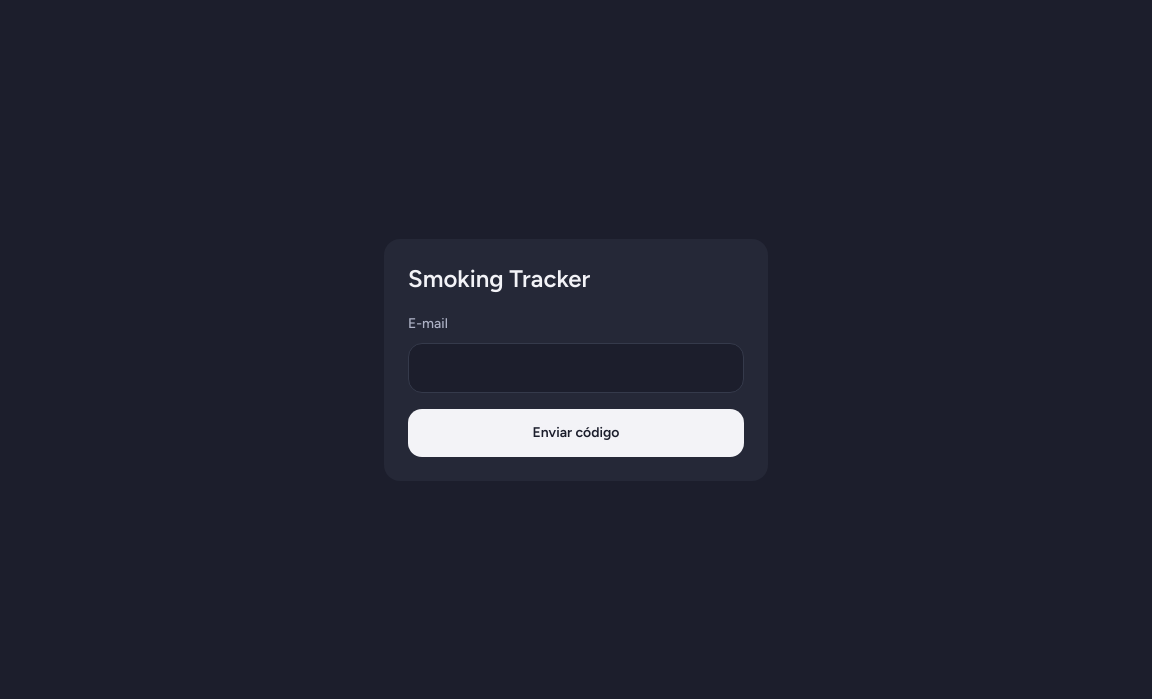
Test case: login › asks for login on a device that never signed in, then opens the app
The image size is (1152, 699).
Type "eu@gmail.com" into the field labelled "E-mail".
click(576, 368); type("eu@gmail.com")  # box [408, 343, 744, 393]
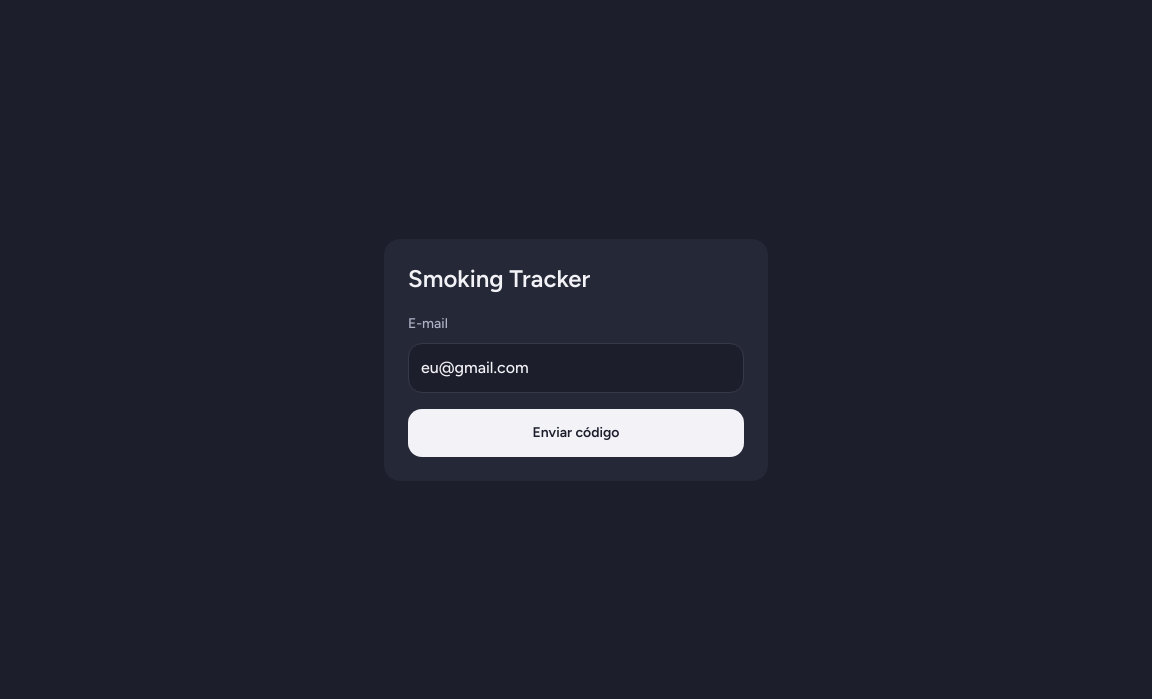
Click the button "Enviar código".
click(576, 433)  # box [408, 409, 744, 457]
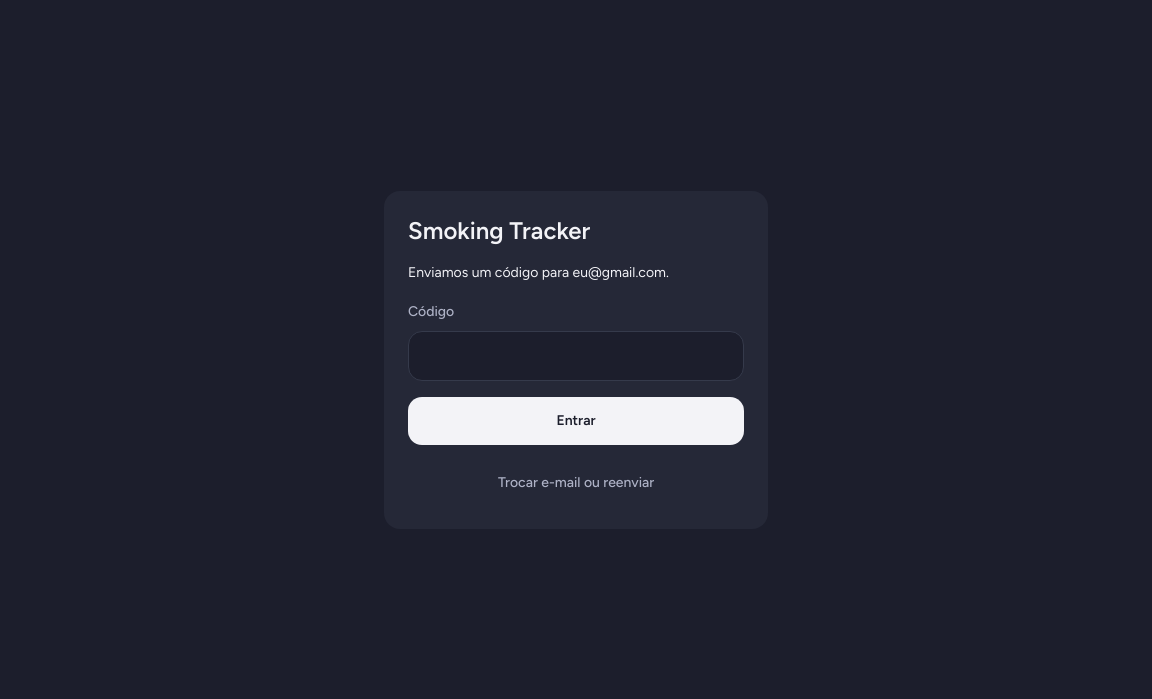
Type "123456" into the field labelled "Código".
click(576, 356); type("123456")  # box [408, 331, 744, 381]
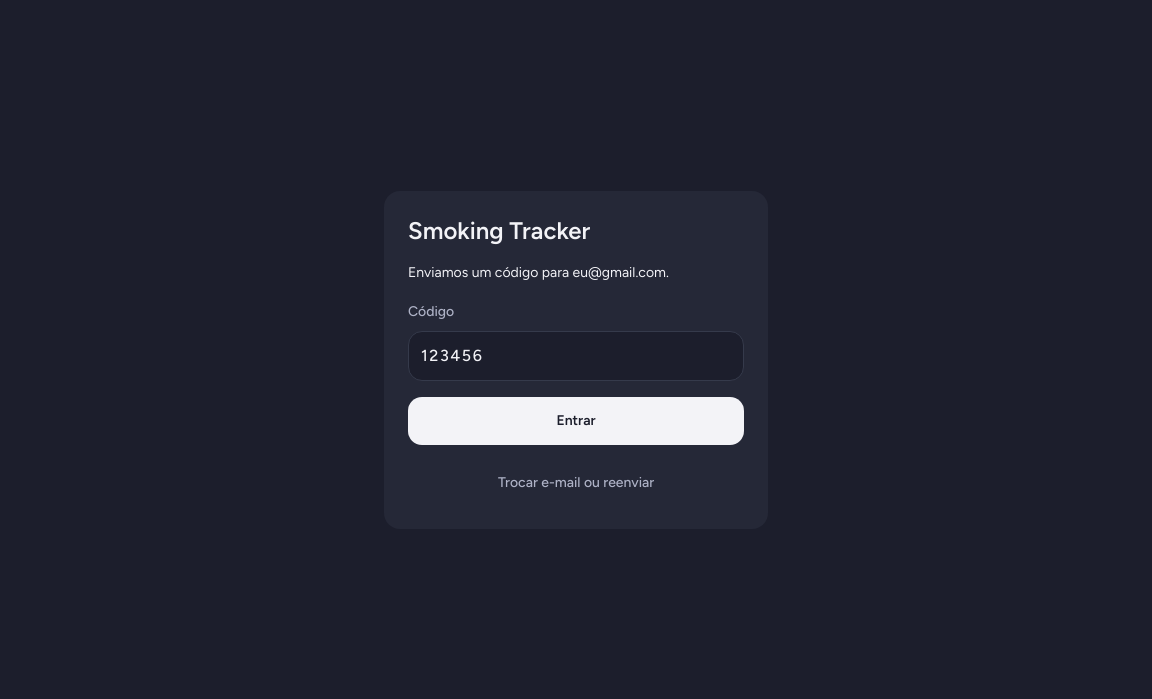
Click the button "Entrar".
click(576, 421)  # box [408, 397, 744, 445]
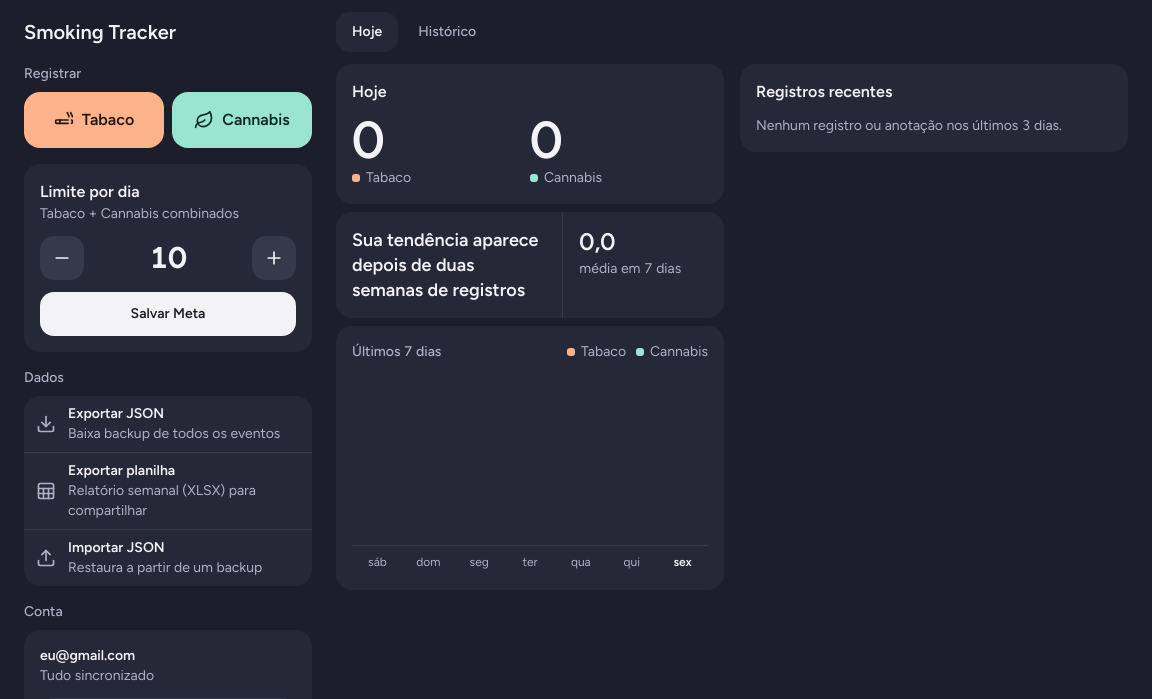
Check: the heading "Registrar" is shown, box [24, 65, 81, 82]
